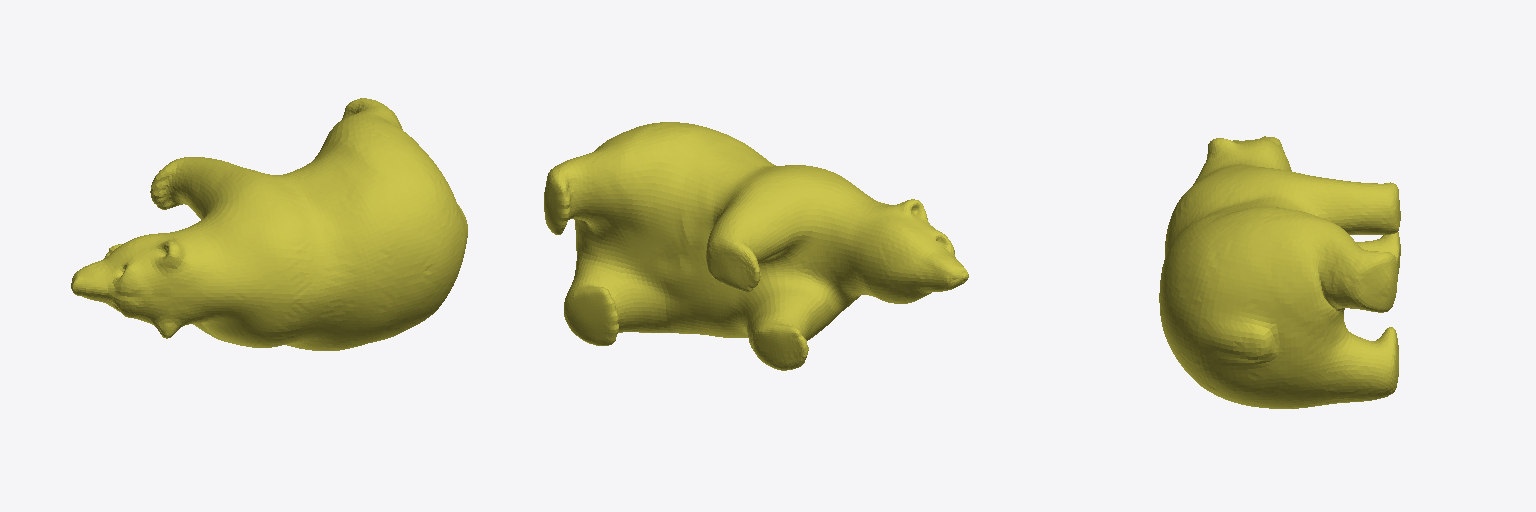
Rendered from oso_polar.obj.
3 views of the same model, side by side, from view 1: azimuth 30°, elevation 25°; view 2: azimuth 150°, elevation 25°; view 3: azimuth 270°, elevation 25° (orthographic).
Parts seen in each view (by area): view 1: PB_Body_WaxDynaMesh129_001; view 2: PB_Body_WaxDynaMesh129_001; view 3: PB_Body_WaxDynaMesh129_001.
Boxes of the visible parts, x1=… form: PB_Body_WaxDynaMesh129_001: x1=71, y1=98, x2=467, y2=350; PB_Body_WaxDynaMesh129_001: x1=544, y1=122, x2=968, y2=370; PB_Body_WaxDynaMesh129_001: x1=1159, y1=136, x2=1400, y2=408.
Bounding box in the file's own units: 3.74 × 1.81 × 2.04.